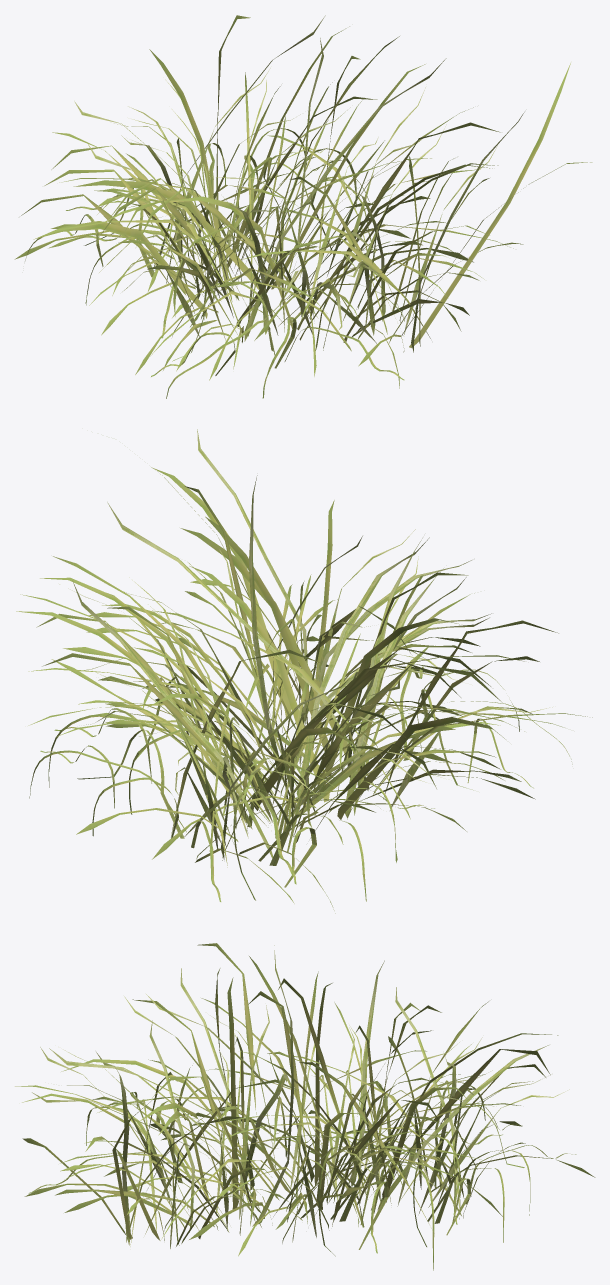
File: grass_meadow.glb
3 renders of one model, top to bottom at view 1: azimuth 30°, elevation 25°; view 2: azimuth 150°, elevation 25°; view 3: azimuth 270°, elevation 25°, orthographic. The views are drawn at different scales.
Parts seen in each view (by area): view 1: bq_Grass_Bromus-erectus_A_winter; view 2: bq_Grass_Bromus-erectus_A_winter; view 3: bq_Grass_Bromus-erectus_A_winter.
Part boxes in pixels (x1,y1,x2,y2): bq_Grass_Bromus-erectus_A_winter: [14, 15, 592, 398]; bq_Grass_Bromus-erectus_A_winter: [16, 429, 592, 913]; bq_Grass_Bromus-erectus_A_winter: [15, 943, 595, 1270].
Bounding box in the file's own units: 0.8783 × 0.494 × 0.8837.
1 material, 1 textured.
